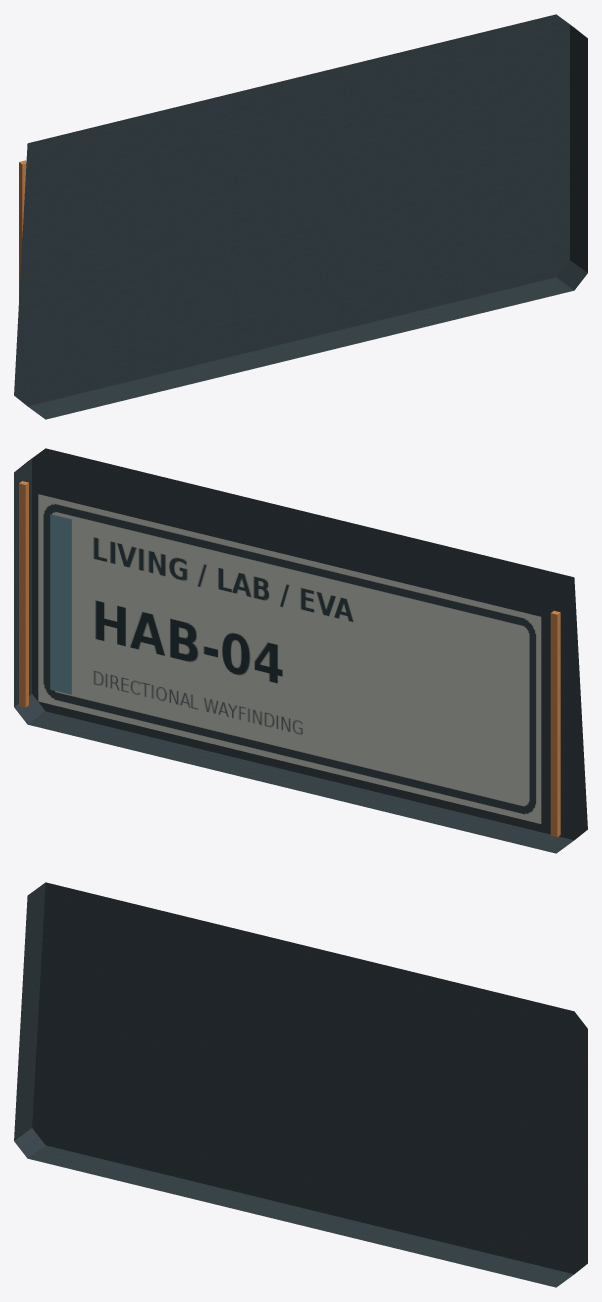
File: wayfinding_panel.glb
3 renders of one model, top to bottom at view 1: azimuth 30°, elevation 25°; view 2: azimuth 150°, elevation 25°; view 3: azimuth 330°, elevation 25°, orthographic.
Visible parts, largest first — view 1: Sign_Frame__graphite, Side_Trim__amber; view 2: static__label_HAB-04, Sign_Frame__graphite, Side_Trim__amber; view 3: Sign_Frame__graphite.
Part boxes in pixels (<box>): Sign_Frame__graphite: <box>14,14,587,419</box>; Side_Trim__amber: <box>19,160,26,298</box>; static__label_HAB-04: <box>38,494,541,823</box>; Sign_Frame__graphite: <box>14,448,587,853</box>; Side_Trim__amber: <box>19,481,560,837</box>; Sign_Frame__graphite: <box>14,882,587,1287</box>.
Size of the model in its own units: 1.15 by 0.52 by 0.0785.
Materials: 3 (3 with a texture image).
